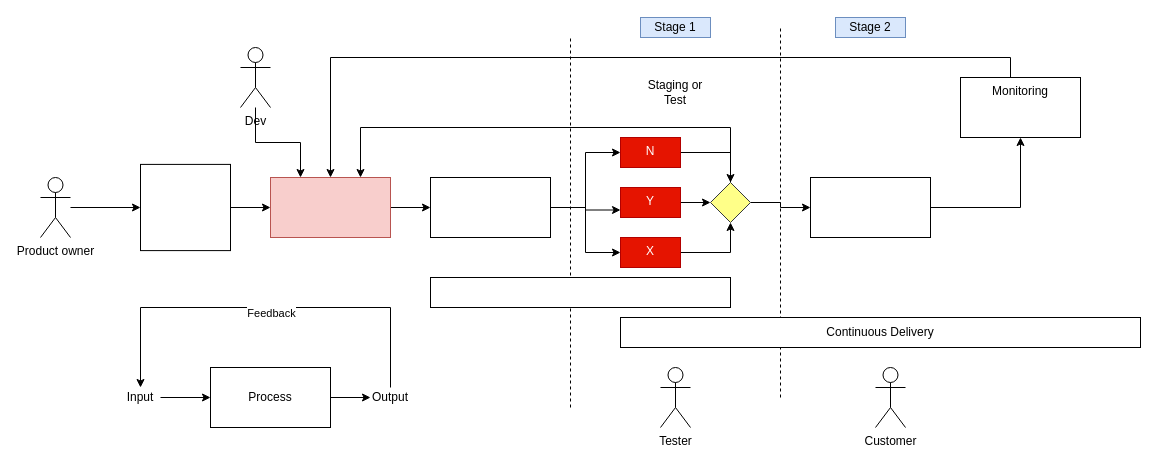
The diagram is 1158 pixels wide and 466 high, and some of its shapes have lost their labels. Each missing label, with the box of its shape:
Automation level 1: (430, 176, 550, 238)
Continuous integration: (430, 276, 730, 308)
development: (270, 176, 390, 238)
Is accepted?: (710, 182, 750, 222)
Push our change to Production (make it live): (810, 176, 930, 238)
task n: (140, 163, 230, 251)
